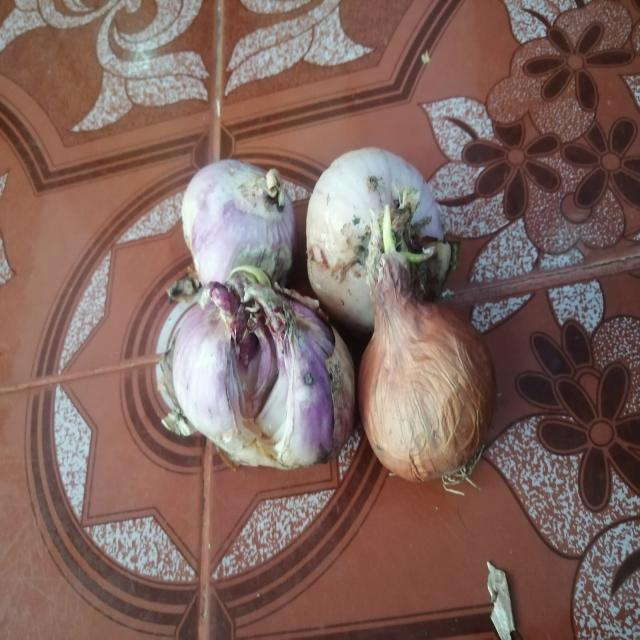rotten: (310, 230, 360, 310), (245, 244, 290, 274)
sprouting: (375, 204, 432, 268), (226, 277, 278, 325)
